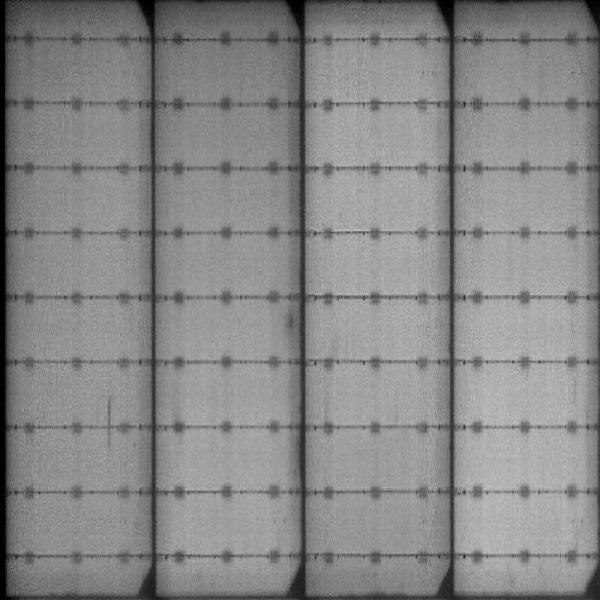scratch: (100, 395, 120, 454)
